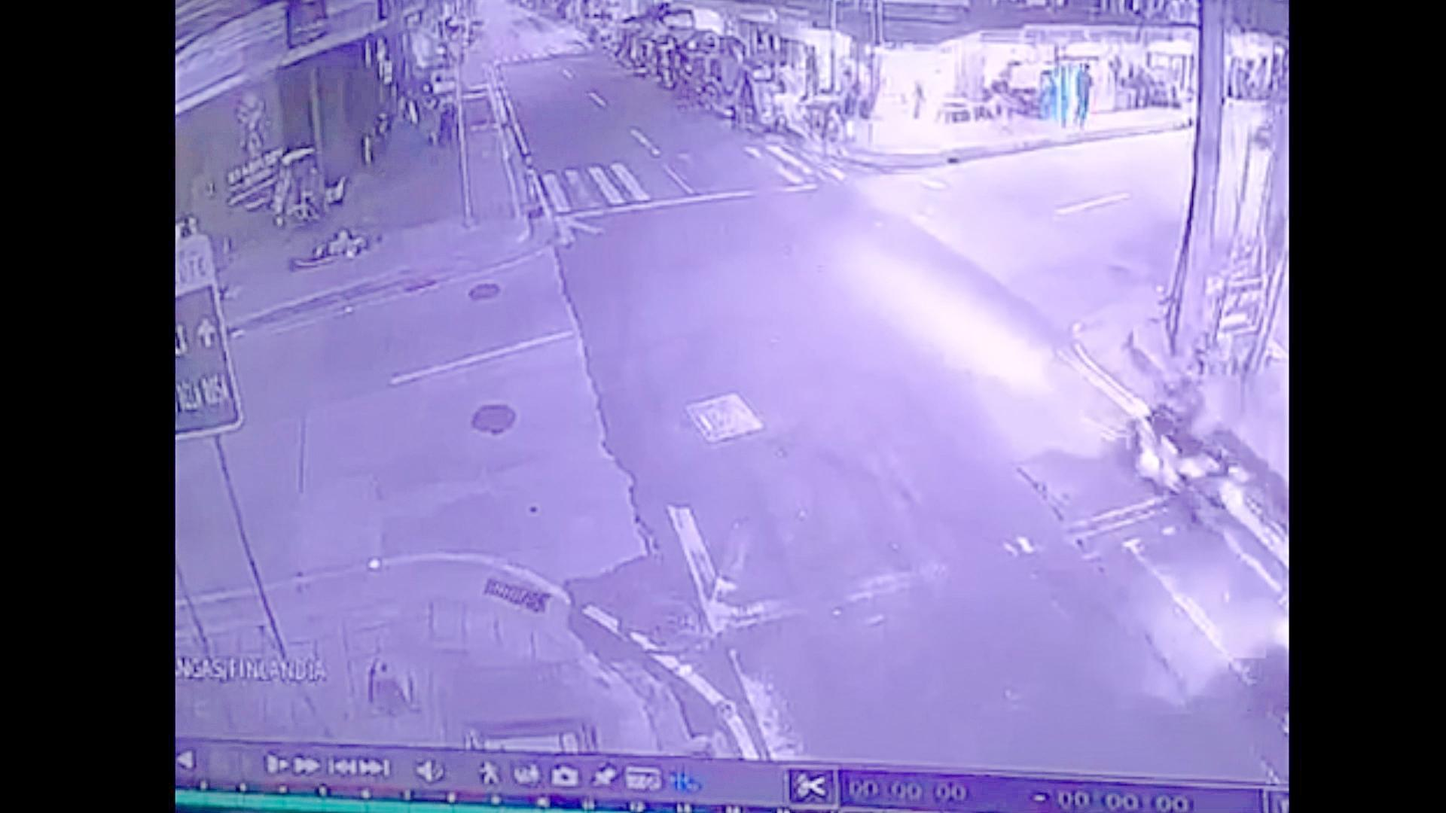Motor: (1123, 367, 1242, 516)
